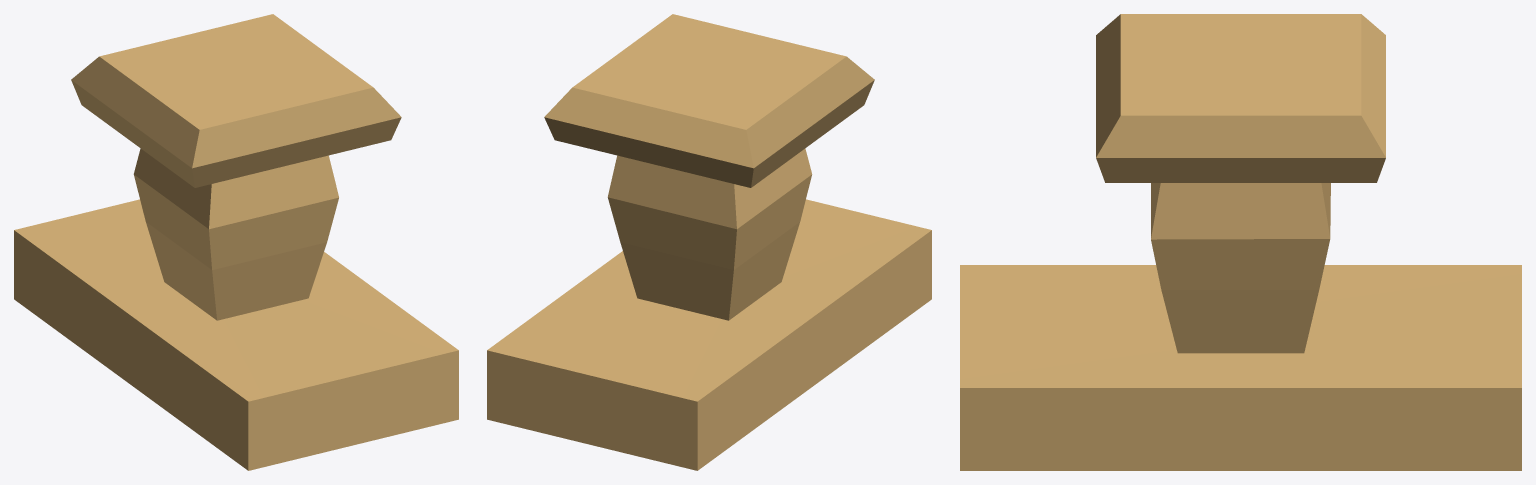
The model's file is StampDECLINE.fbx.
3 renders of one model, left to right at view 1: azimuth 30°, elevation 25°; view 2: azimuth 150°, elevation 25°; view 3: azimuth 270°, elevation 25°, orthographic. The views are drawn at different scales.
Visible parts, largest first — view 1: Stamp, Stamp Handle; view 2: Stamp, Stamp Handle; view 3: Stamp, Stamp Handle.
Part boxes in pixels (x1,y1,x2,y2): Stamp: (14,199,458,470); Stamp Handle: (71,14,401,320); Stamp: (487,199,931,470); Stamp Handle: (544,14,874,320); Stamp: (960,265,1521,470); Stamp Handle: (1096,14,1385,353).
Bounding box in the file's own units: 150 × 201 × 289.
4 materials, 4 textured.
